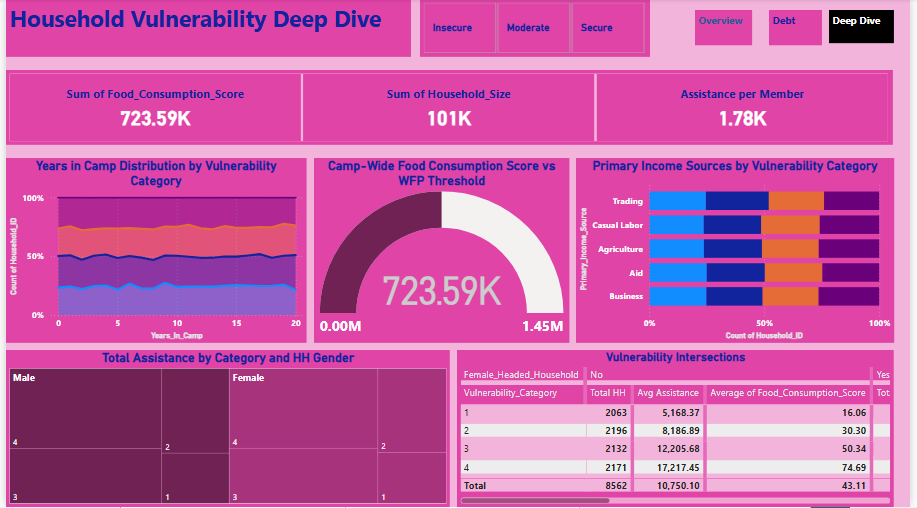

The dashboard page shown, as its layout file describes it:
{"tool":"powerbi","page":{"name":"Household Vulnerability Deep Dive","canvas":[1280,720],"ordinal":2},"visuals":[{"type":"gauge","title":"Camp-Wide Food Consumption Score vs WFP Threshold","fields":{"Y":["Sum(kakuma_cleaned.Food_Consumption_Score)"]},"box":[436.2,225.5,361.7,261.7],"z":0},{"type":"pivotTable","title":"Vulnerability Intersections","fields":{"Rows":["kakuma_cleaned.Vulnerability_Category"],"Columns":["kakuma_cleaned.Female_Headed_Household","kakuma_cleaned.Disability_In_Household"],"Values":["DAX Measures.Total HH","DAX Measures.Avg Assistance","Avg(kakuma_cleaned.Food_Consumption_Score)"]},"box":[639.2,497.5,619.4,222.5],"z":1000},{"type":"treemap","title":"Total Assistance by Category and HH Gender","fields":{"Details":["kakuma_cleaned.Vulnerability_Category"],"Group":["kakuma_cleaned.Head_of_Household_Gender"],"Values":["Sum(kakuma_cleaned.Total_Assistance_Value)"]},"box":[0,497.5,629.3,222.5],"z":2000},{"type":"hundredPercentStackedAreaChart","title":"Years in Camp Distribution by Vulnerability Category","fields":{"Category":["kakuma_cleaned.Years_In_Camp"],"Y":["CountNonNull(kakuma_cleaned.Household_ID)"],"Series":["kakuma_cleaned.Vulnerability_Category"]},"box":[0,225.5,425.5,261.7],"z":3000},{"type":"hundredPercentStackedBarChart","title":"Primary Income Sources by Vulnerability Category","fields":{"Category":["kakuma_cleaned.Primary_Income_Source"],"Y":["CountNonNull(kakuma_cleaned.Household_ID)"],"Series":["kakuma_cleaned.Vulnerability_Category"]},"box":[808.5,225.5,451.1,261.7],"z":4000},{"type":"cardVisual","fields":{"Data":["Sum(kakuma_cleaned.Food_Consumption_Score)","Sum(kakuma_cleaned.Household_Size)","DAX Measures.Assistance per Member"]},"box":[0,100,1257.4,106.4],"z":5000},{"type":"textbox","box":[0,0,574,82.2],"z":6000},{"type":"advancedSlicerVisual","fields":{"Values":["kakuma_cleaned.Food_Security_Status"]},"box":[586.8,0,326,82.2],"z":7000},{"type":"textbox","box":[976.5,15.6,80.8,49.6],"z":8000},{"type":"textbox","box":[1081.4,15.6,75.1,49.6],"z":9000},{"type":"textbox","box":[1166.5,15.6,92.1,46.8],"z":10000}]}

Visuals, with their boxes in screenshot pixels (x1, y1, x2, y2), scaled from the page's 1280x720 canvas onto the 917x508 screenshot:
"Camp-Wide Food Consumption Score vs WFP Threshold" gauge: <bbox>312, 159, 572, 344</bbox>
"Vulnerability Intersections" pivotTable: <bbox>458, 351, 902, 507</bbox>
"Total Assistance by Category and HH Gender" treemap: <bbox>0, 351, 451, 507</bbox>
"Years in Camp Distribution by Vulnerability Category" hundredPercentStackedAreaChart: <bbox>0, 159, 305, 344</bbox>
"Primary Income Sources by Vulnerability Category" hundredPercentStackedBarChart: <bbox>579, 159, 902, 344</bbox>
cardVisual - Sum(kakuma_cleaned.Food_Consumption_Score) x Sum(kakuma_cleaned.Household_Size): <bbox>0, 71, 901, 146</bbox>
textbox: <bbox>0, 0, 411, 58</bbox>
advancedSlicerVisual - kakuma_cleaned.Food_Security_Status: <bbox>420, 0, 654, 58</bbox>
textbox: <bbox>700, 11, 757, 46</bbox>
textbox: <bbox>775, 11, 829, 46</bbox>
textbox: <bbox>836, 11, 902, 44</bbox>
